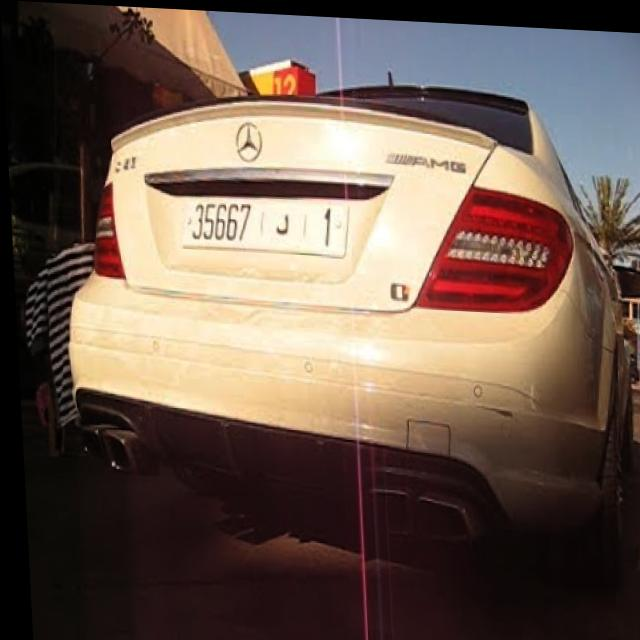License-Plate: (180, 196, 346, 253)
